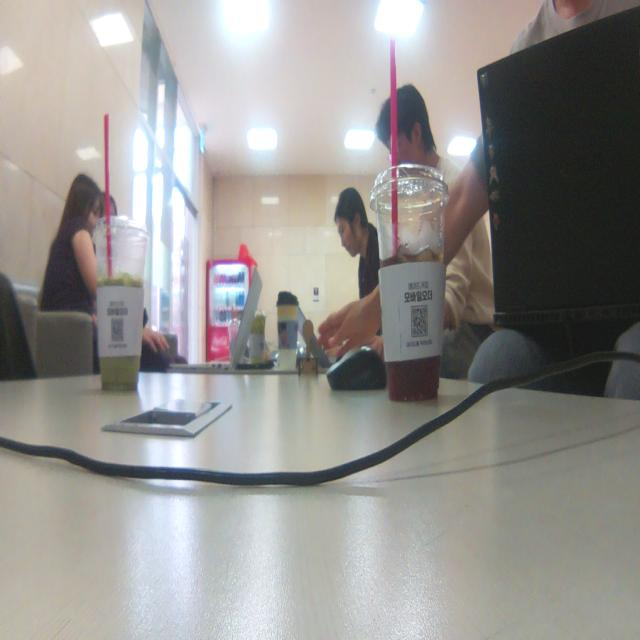target: (298, 319, 318, 376)
